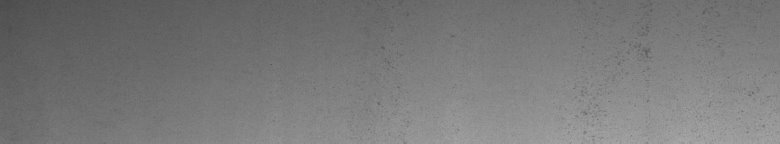ib: (574, 44, 653, 117)
